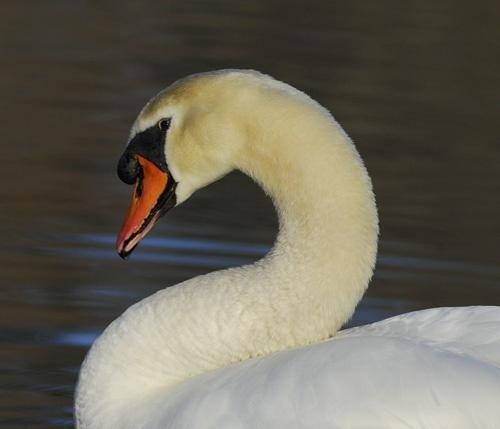bird: (74, 67, 500, 429)
